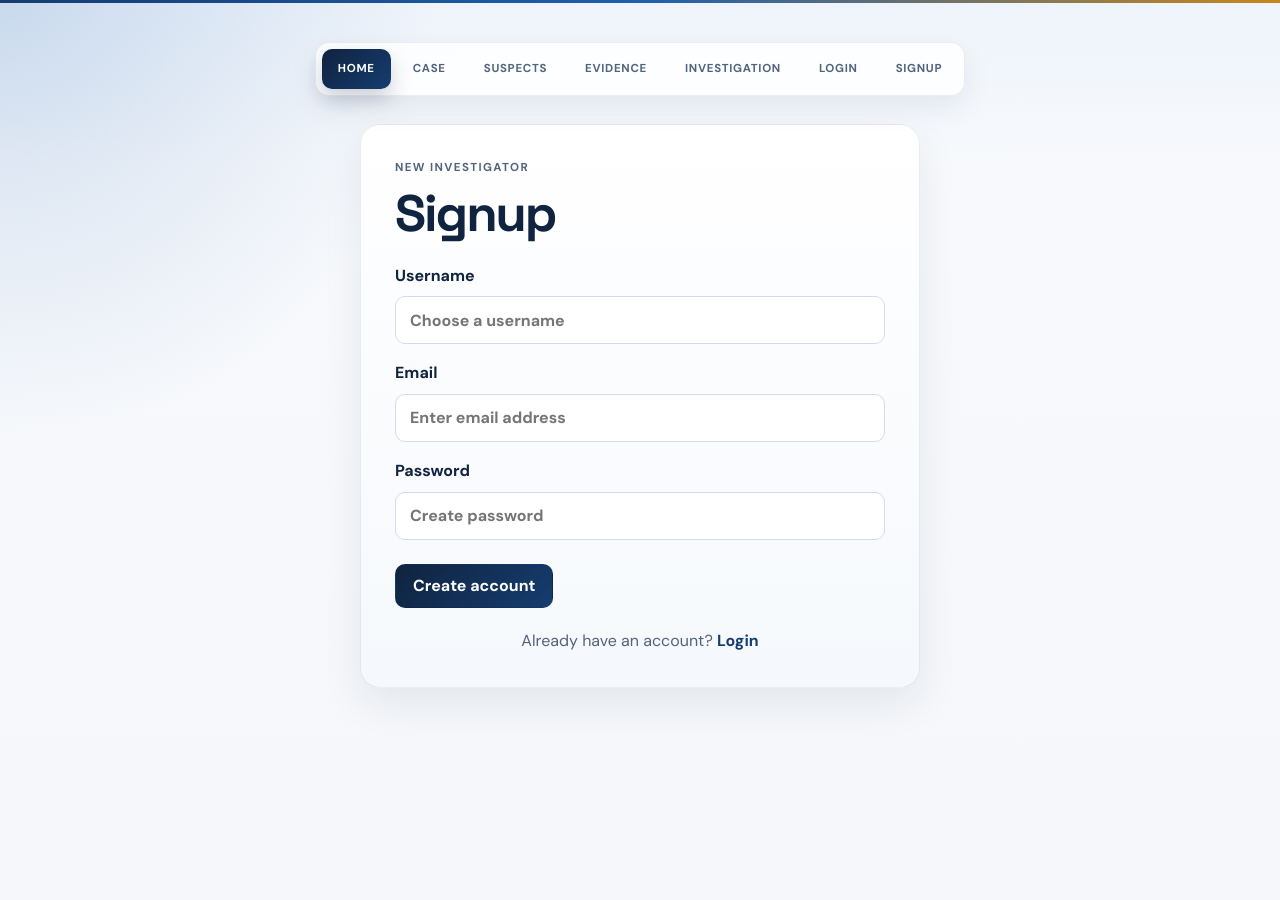
Test: Authentication pages › submits signup details and stores the created account
The width and height of the screenshot is (1280, 900).
Type "investigator" into the field labelled "Username" at x=640, y=320, box [395,296,885,344]
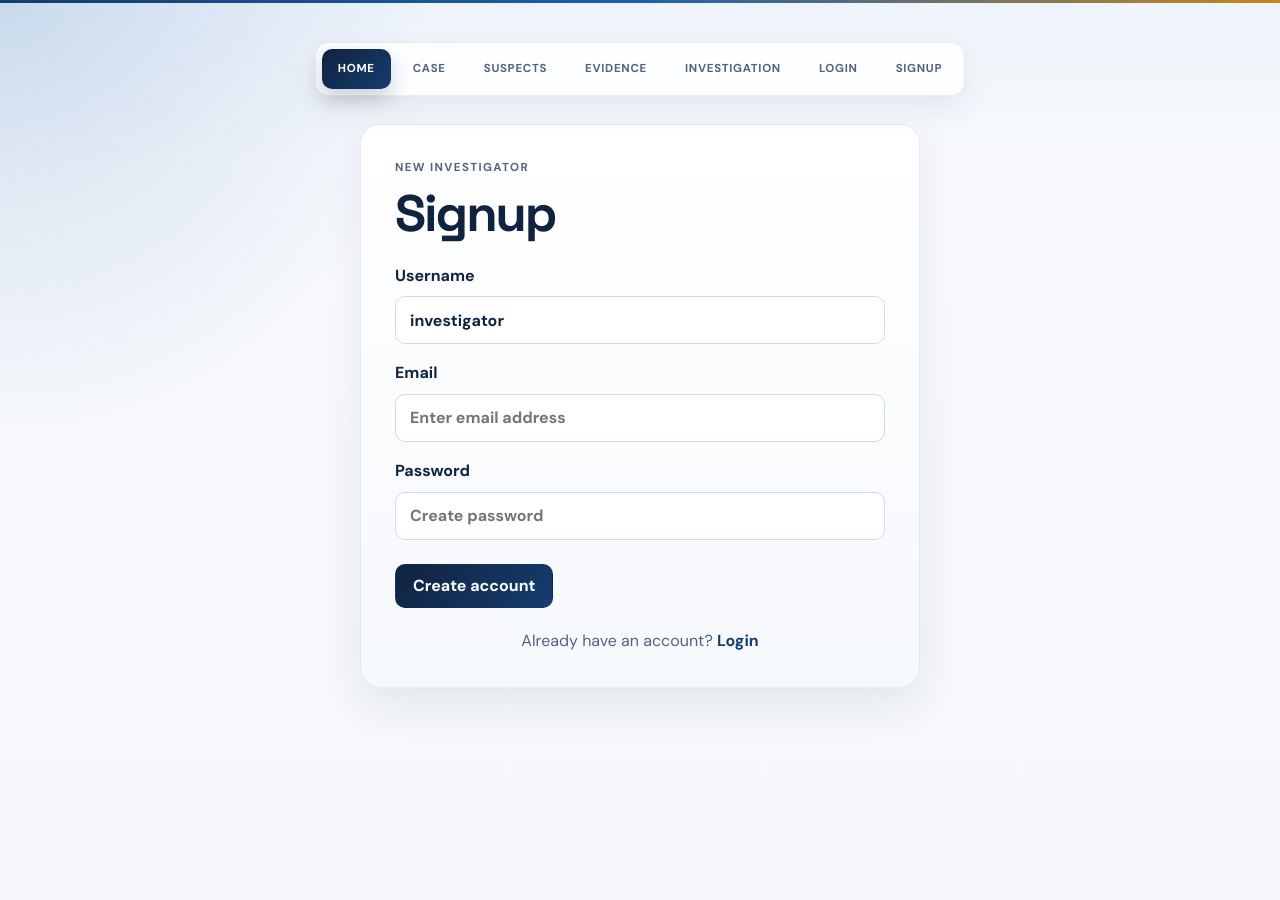
Type "investigator@example.com" into the field labelled "Email" at x=640, y=418, box [395,394,885,442]
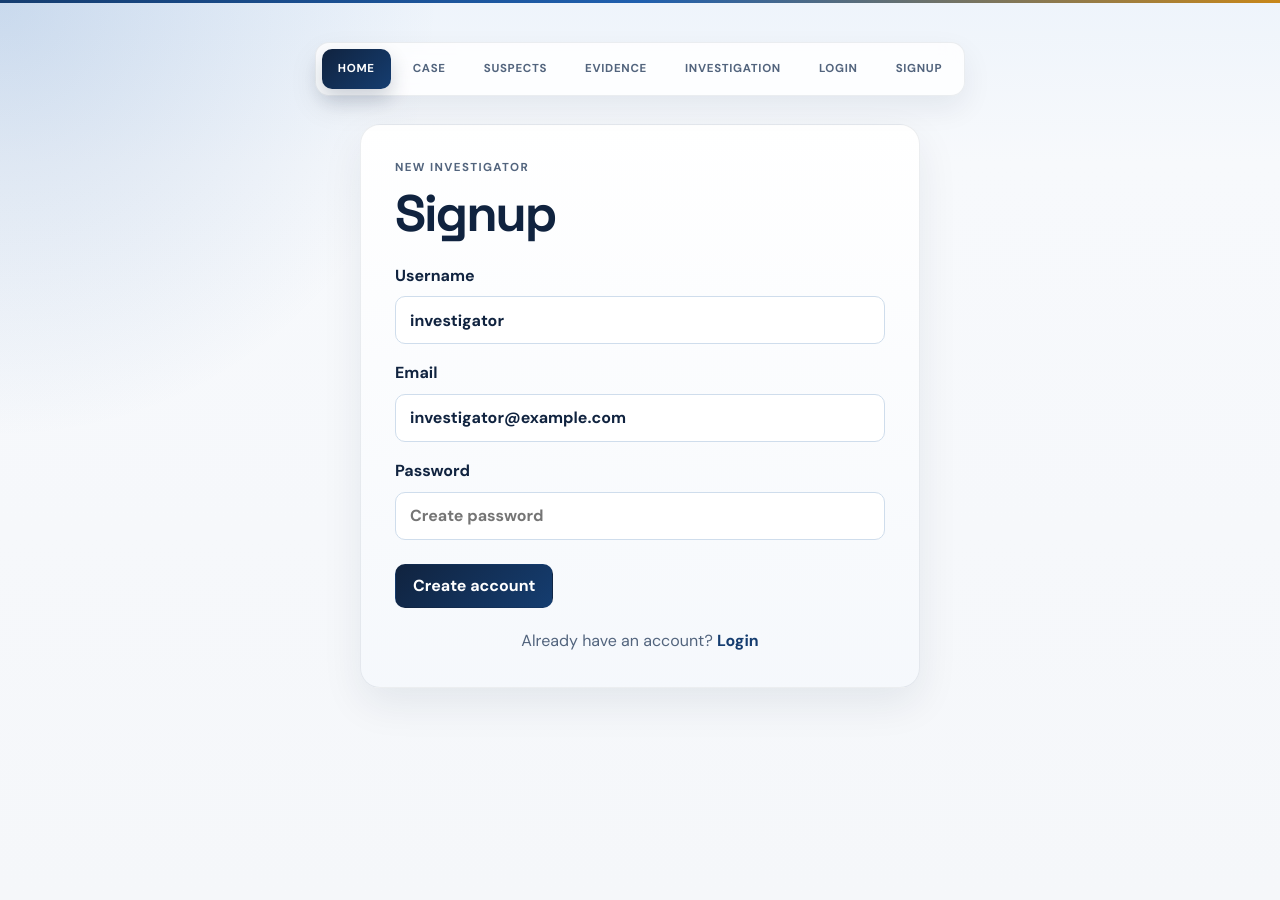
Type "secret123" into the password field labelled "Password" at x=640, y=516, box [395,492,885,540]
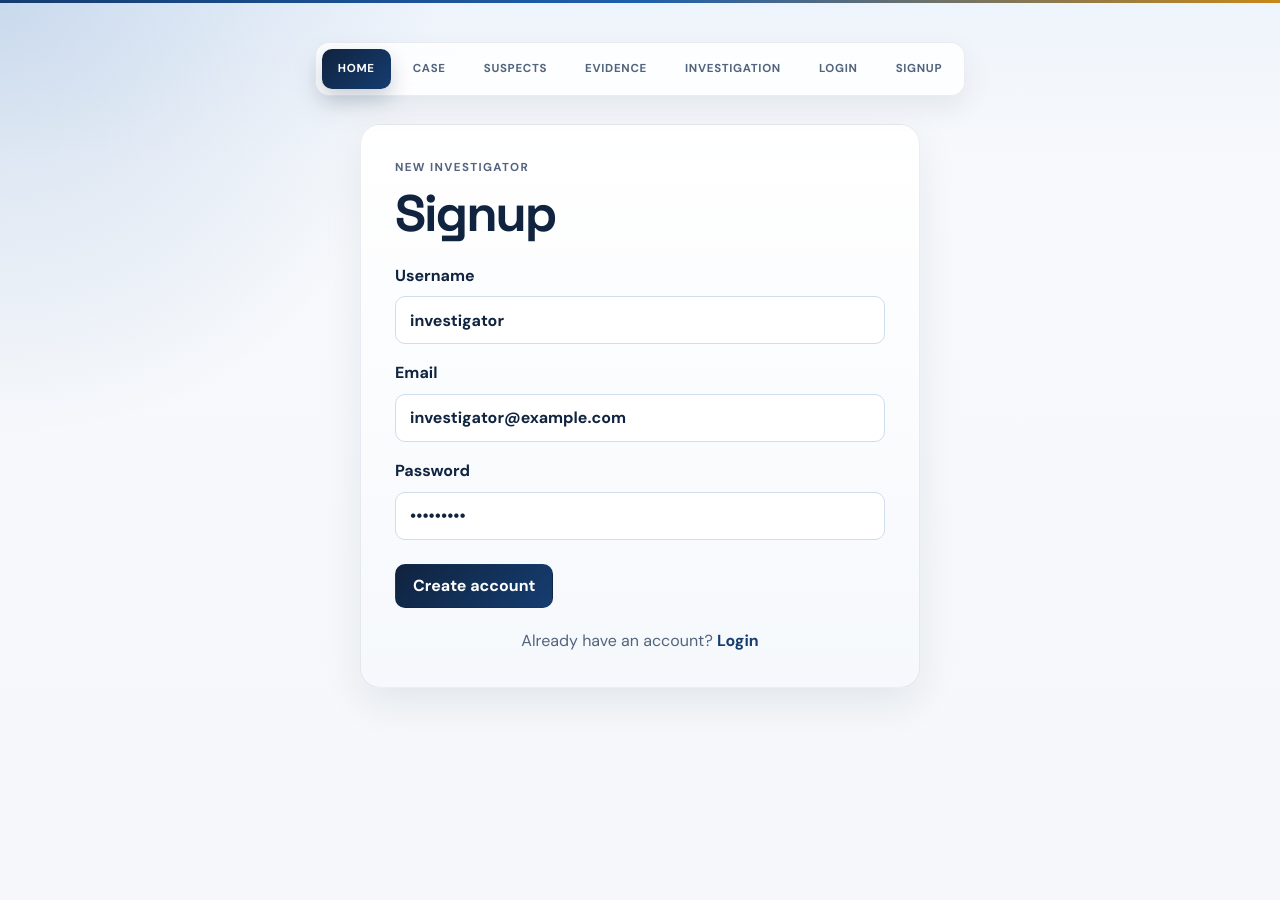
Click the button "Create account" at x=474, y=586, box [395,564,554,608]
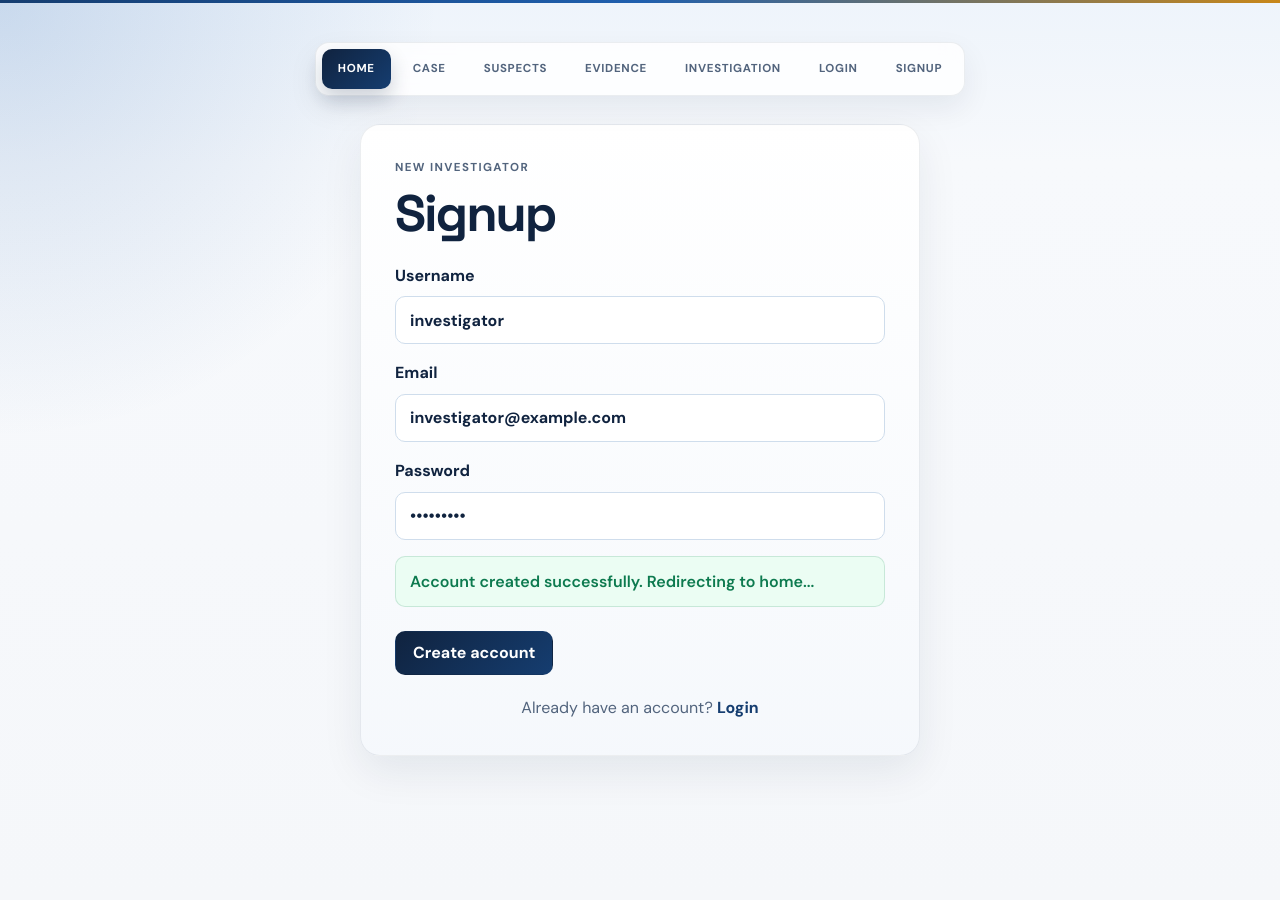
Check: the text "Account created successfully. Redirecting to home..." is shown, box [395,556,885,607]
